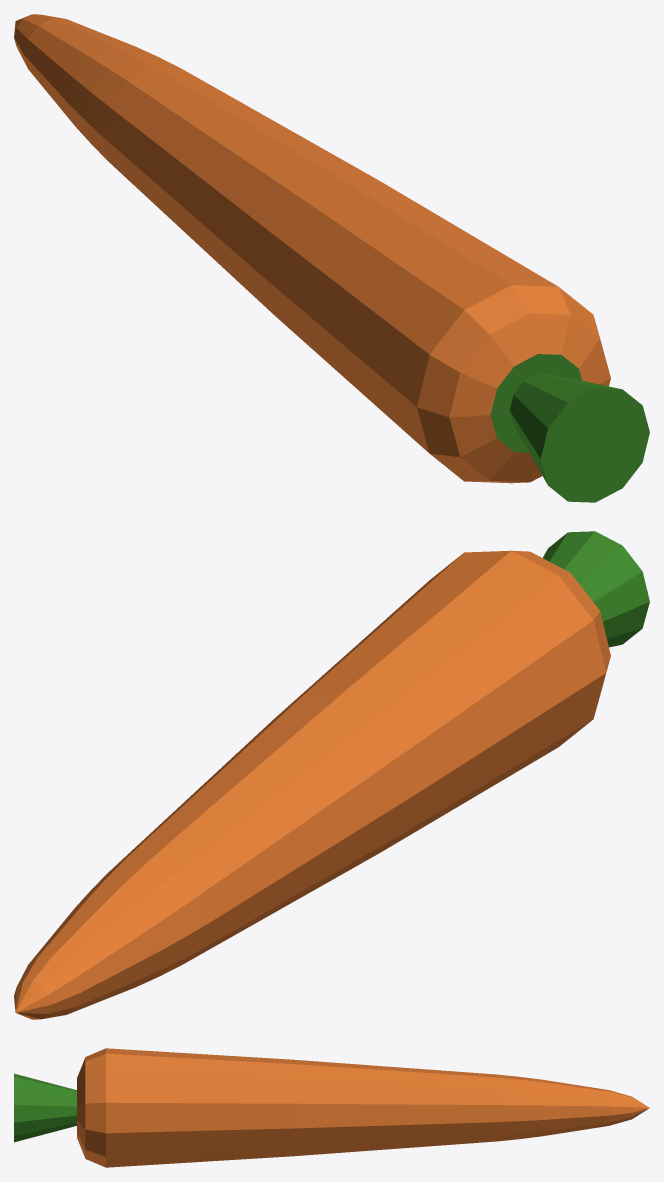
The model's file is Carrot.fbx.
3 renders of one model, top to bottom at view 1: azimuth 30°, elevation 25°; view 2: azimuth 150°, elevation 25°; view 3: azimuth 270°, elevation 25°, orthographic. The views are drawn at different scales.
Parts seen in each view (by area): view 1: polySurface196; view 2: polySurface196; view 3: polySurface196.
Part boxes in pixels (x1=…): polySurface196: x1=14, y1=14, x2=649, y2=502; polySurface196: x1=14, y1=531, x2=649, y2=1019; polySurface196: x1=14, y1=1048, x2=649, y2=1167.
Bounding box in the file's own units: 90.77 × 90.77 × 482.
